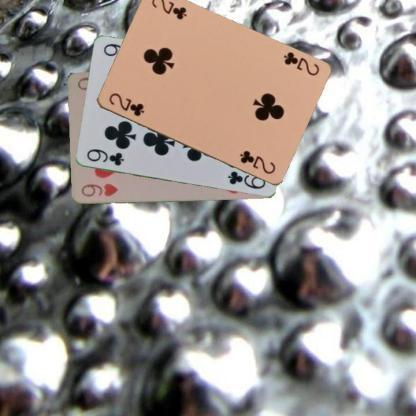2c: (280, 49, 320, 78), (106, 90, 146, 118)
9c: (84, 146, 125, 168)
9h: (78, 180, 119, 198)
